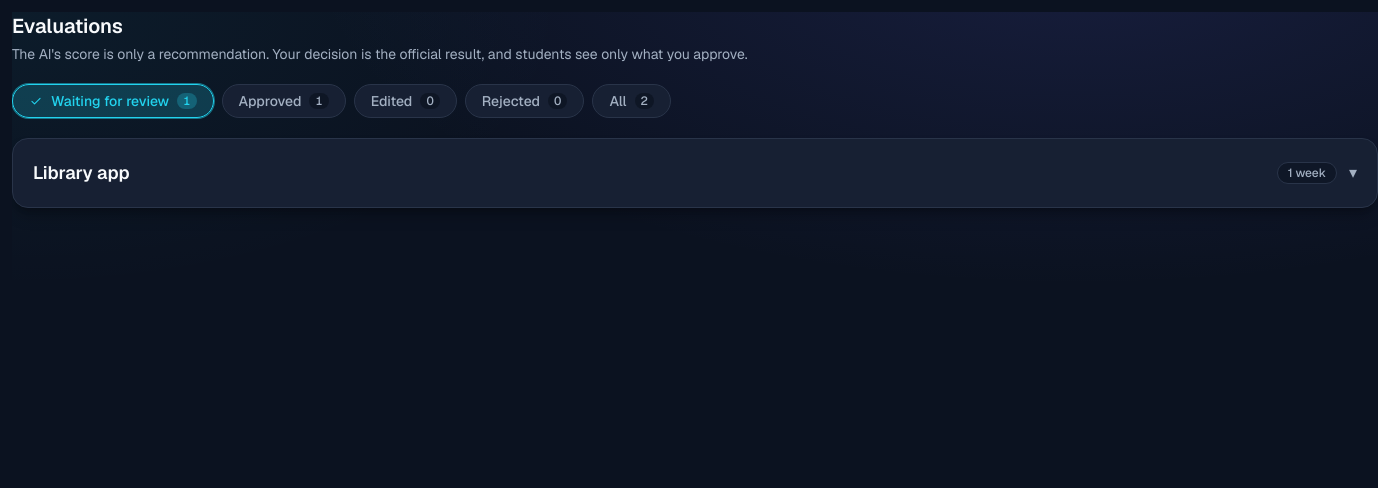
Test case: FacultyQueue › opens to a card for each week, in week order, with only the score, a quiz tag and a status
# The default filter is "Waiting for review", so look at everything.
Step 1. Click the button "All 2" → (632, 101), box [592, 84, 671, 118]
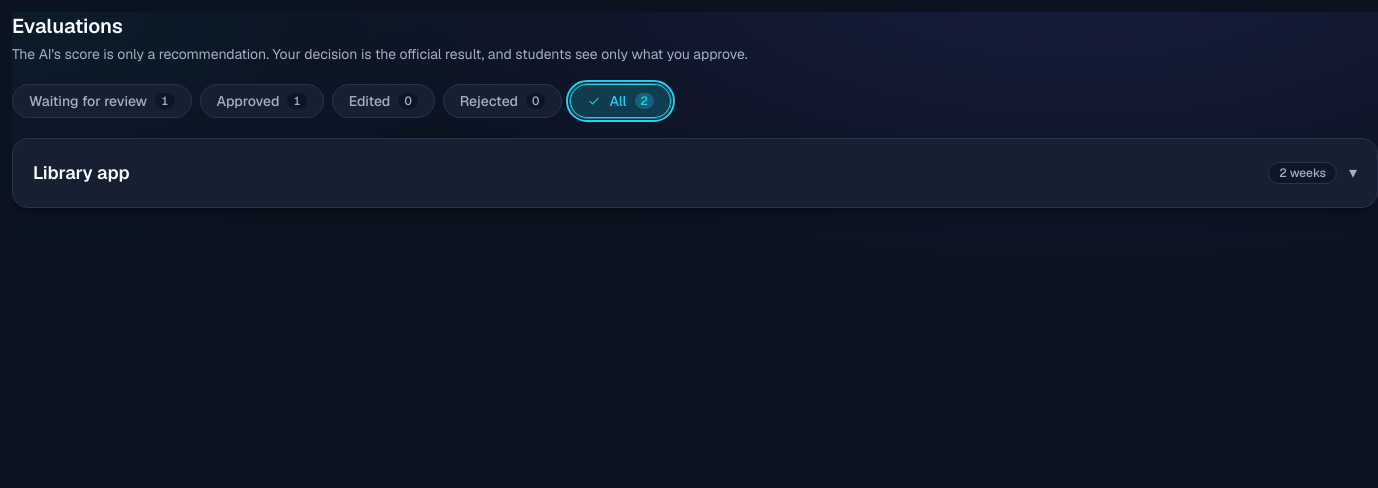
Step 2. Click the text "Library app" → (81, 173), box [33, 159, 130, 187]
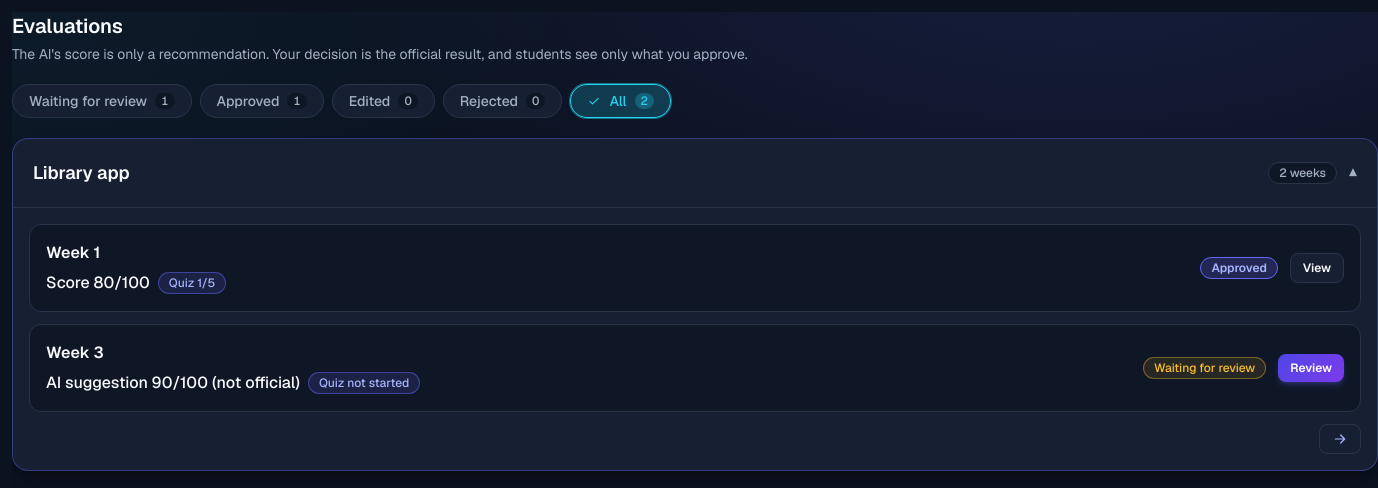
Expected: the list item "Week 1 Score 80/100 Quiz 1/5 Approved View" is shown, [29, 224, 1361, 312]
Expected: the 2nd list item shows "AI suggestion 90/100 (not official)", [46, 372, 300, 393]
Expected: the 2nd list item shows "Quiz not started", [29, 324, 1361, 412]
